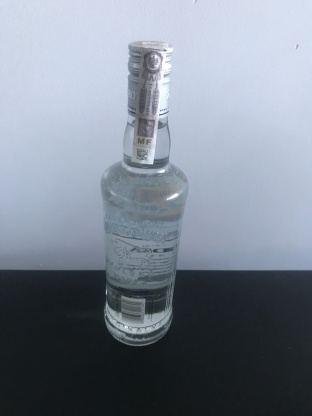nakretka: (124, 34, 175, 119)
